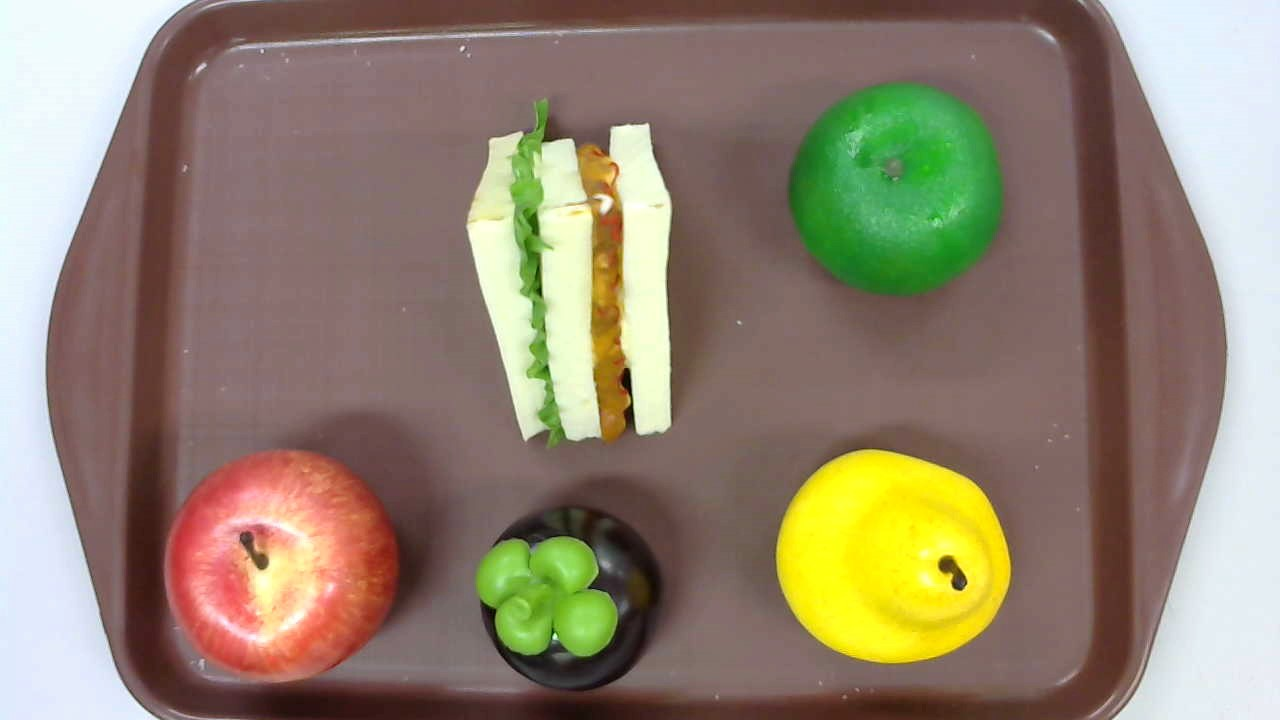green orange: (789, 82, 1002, 298)
mangosteen: (477, 508, 663, 691)
red apple: (163, 448, 400, 684)
sandwich: (466, 99, 676, 451)
yellow pear: (776, 449, 1011, 665)
